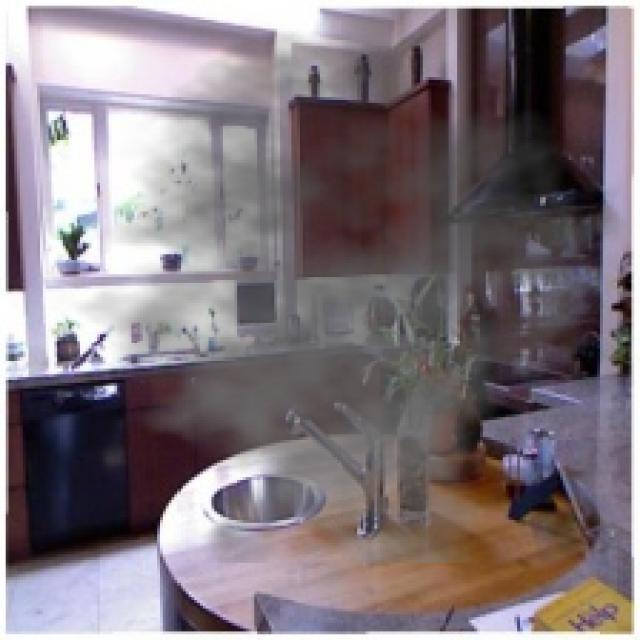Smoke: (48, 28, 618, 563)
